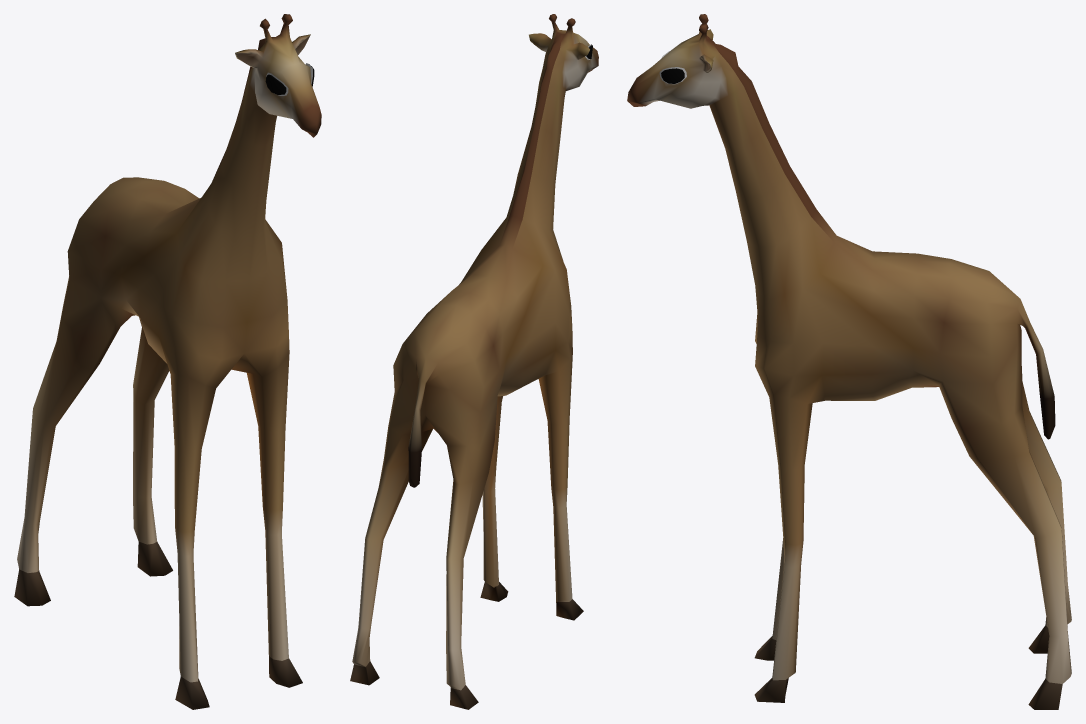
3 views of the same model, side by side, from view 1: azimuth 30°, elevation 25°; view 2: azimuth 150°, elevation 25°; view 3: azimuth 270°, elevation 25° (orthographic). The views are drawn at different scales.
Visible parts, largest first — view 1: base.059; view 2: base.059; view 3: base.059.
Part boxes in pixels (x1=…): base.059: x1=14, y1=14, x2=321, y2=709; base.059: x1=350, y1=14, x2=598, y2=709; base.059: x1=627, y1=14, x2=1071, y2=709.
Size of the model in its own units: 1.09 by 4.99 by 3.06.
